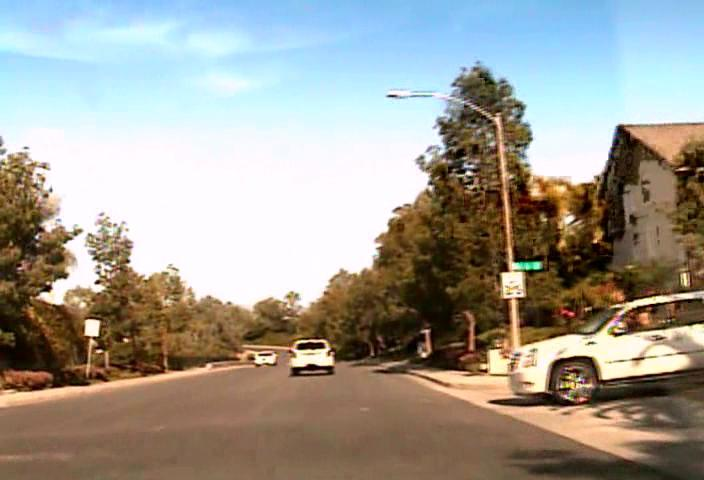speedLimit25: (500, 270, 525, 299)
